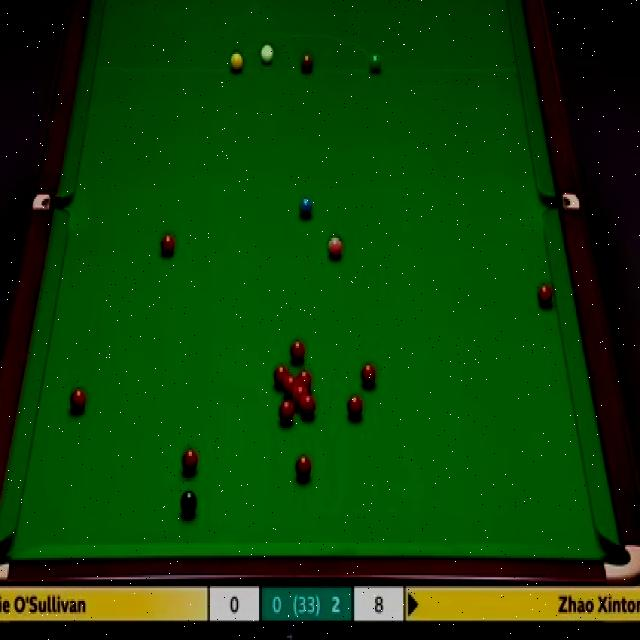black-ball: (180, 491, 198, 520)
blue-ball: (298, 194, 314, 220)
brown-ball: (300, 50, 314, 73)
green-ball: (368, 54, 382, 75)
pink-ball: (328, 235, 343, 259)
red-ball: (345, 393, 365, 423), (359, 360, 378, 390), (295, 452, 312, 482), (537, 281, 554, 309), (70, 385, 86, 414), (278, 398, 294, 426), (182, 448, 199, 473), (290, 339, 305, 366), (273, 364, 288, 388), (160, 232, 175, 255), (301, 394, 315, 418), (298, 370, 312, 391), (284, 375, 298, 395), (294, 386, 307, 406)
white-ball: (258, 40, 277, 68)
yellow-ball: (230, 52, 243, 74)
